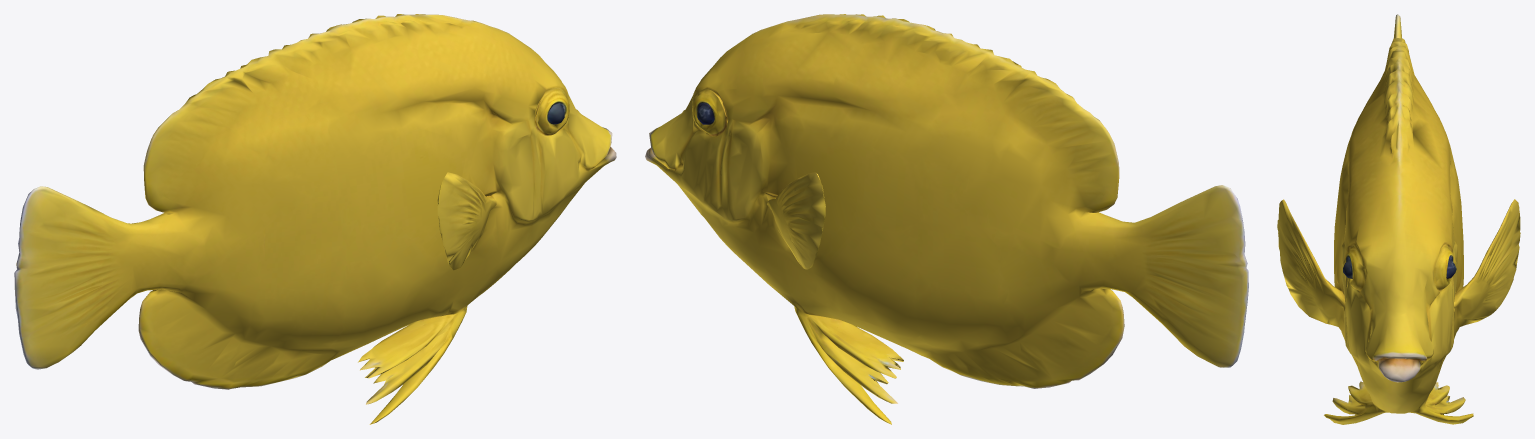
Rendered from yellowtang.glb.
The picture shows the model from 3 angles, left to right: view 1: azimuth 30°, elevation 25°; view 2: azimuth 150°, elevation 25°; view 3: azimuth 270°, elevation 25°; orthographic projection. The views are drawn at different scales.
Visible parts, largest first — view 1: tripo_node_b946017f-657d-4610-b19b-58bcb5dcf1be; view 2: tripo_node_b946017f-657d-4610-b19b-58bcb5dcf1be; view 3: tripo_node_b946017f-657d-4610-b19b-58bcb5dcf1be.
Part boxes in pixels (box(x1,y1,x2,y2)): tripo_node_b946017f-657d-4610-b19b-58bcb5dcf1be: box(14, 14, 616, 424); tripo_node_b946017f-657d-4610-b19b-58bcb5dcf1be: box(645, 14, 1248, 424); tripo_node_b946017f-657d-4610-b19b-58bcb5dcf1be: box(1277, 14, 1520, 424).
Bounding box in the file's own units: 0.9997 × 0.5901 × 0.3744.
1 material, 1 textured.
